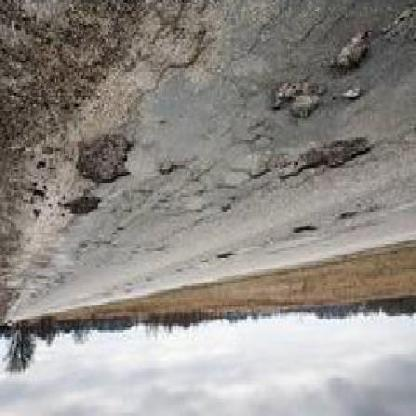pothole: (282, 140, 374, 187), (74, 135, 133, 187), (273, 82, 326, 122), (331, 30, 374, 77), (62, 197, 104, 220), (340, 90, 364, 104)
